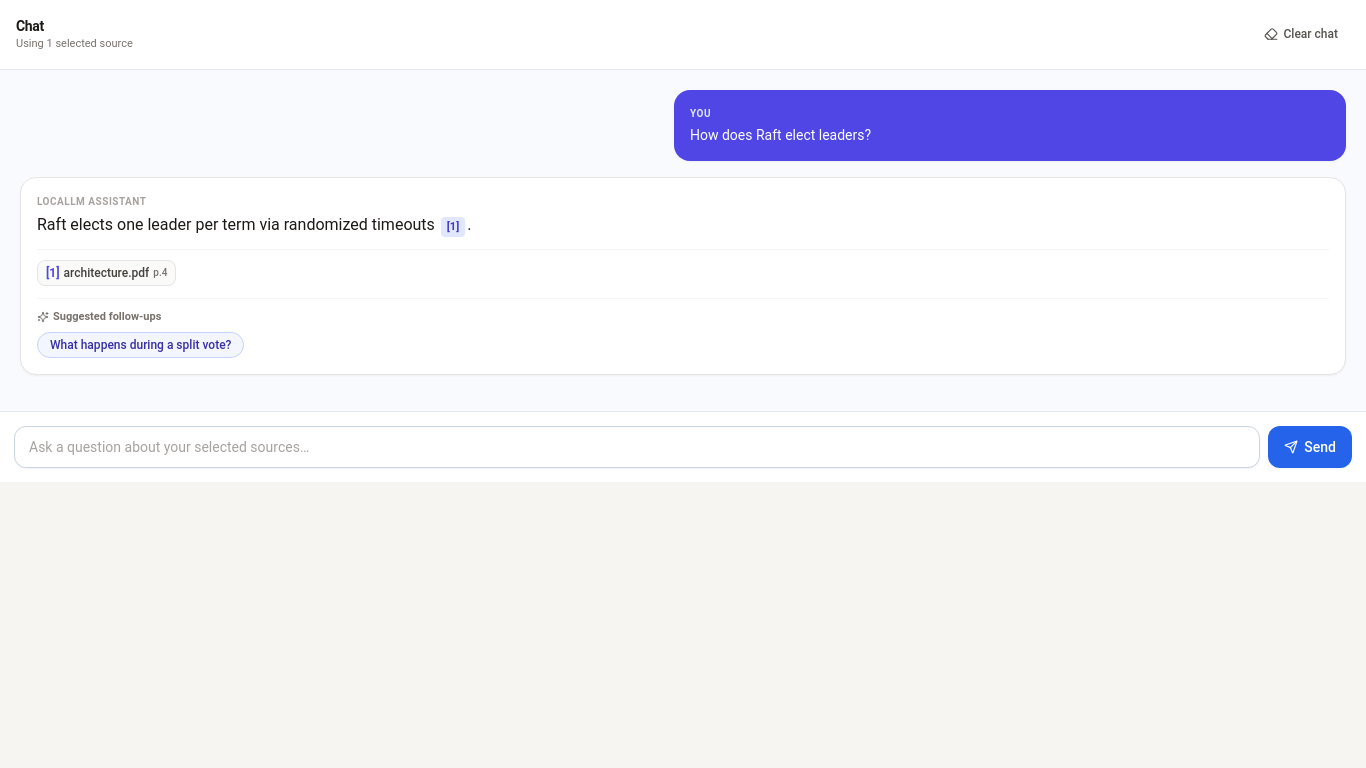
Citation chip and CitationDrawer › opens the citation drawer with filename, page, and snippet when clicking [1]
Later steps or results of the test are not shown.
Click the button "[1]" at (453, 227), box [441,216,465,237]
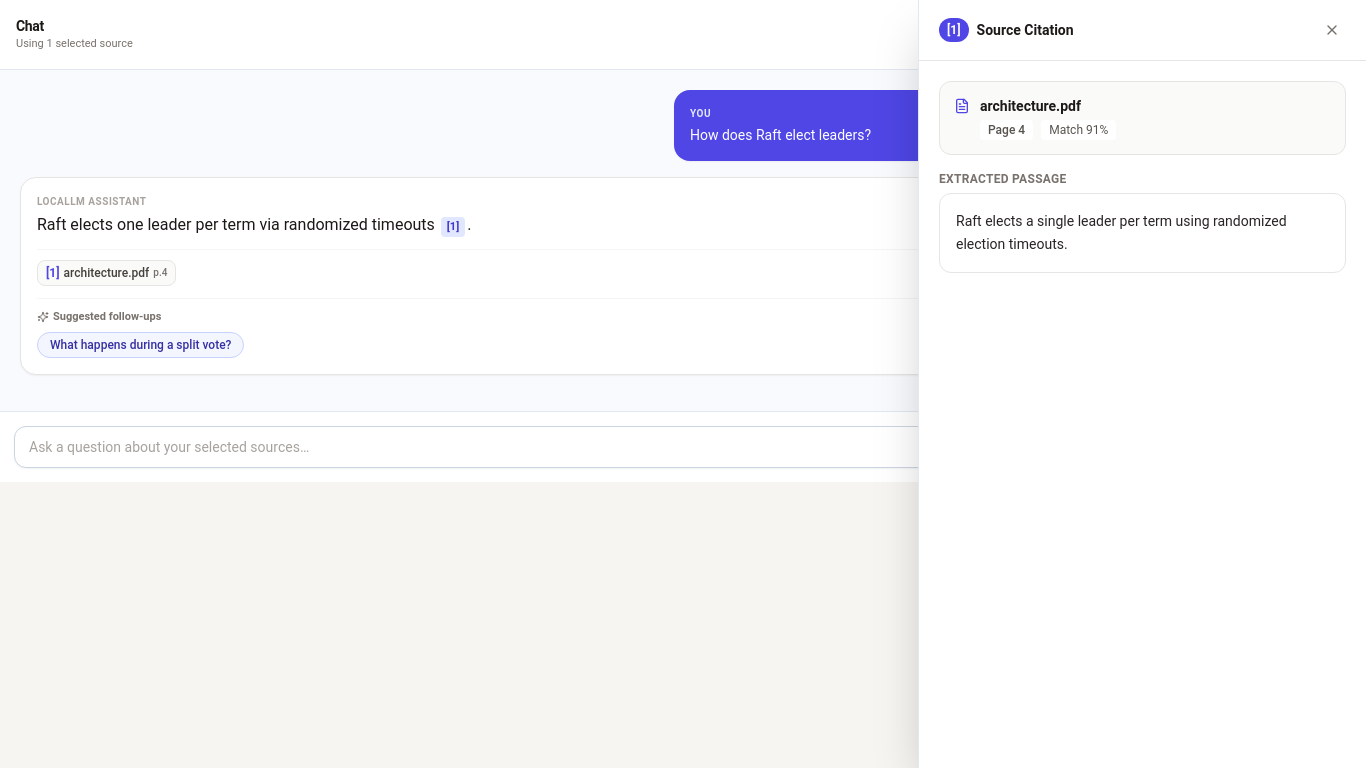
expect the element named "Citation details" shows "architecture.pdf": met, box [980,98,1081,114]
expect the element named "Citation details" shows "Page 4": met, box [988,123,1025,137]
expect the element named "Citation details" shows "Raft elects a single leader per term": met, box [956,213,1287,252]
